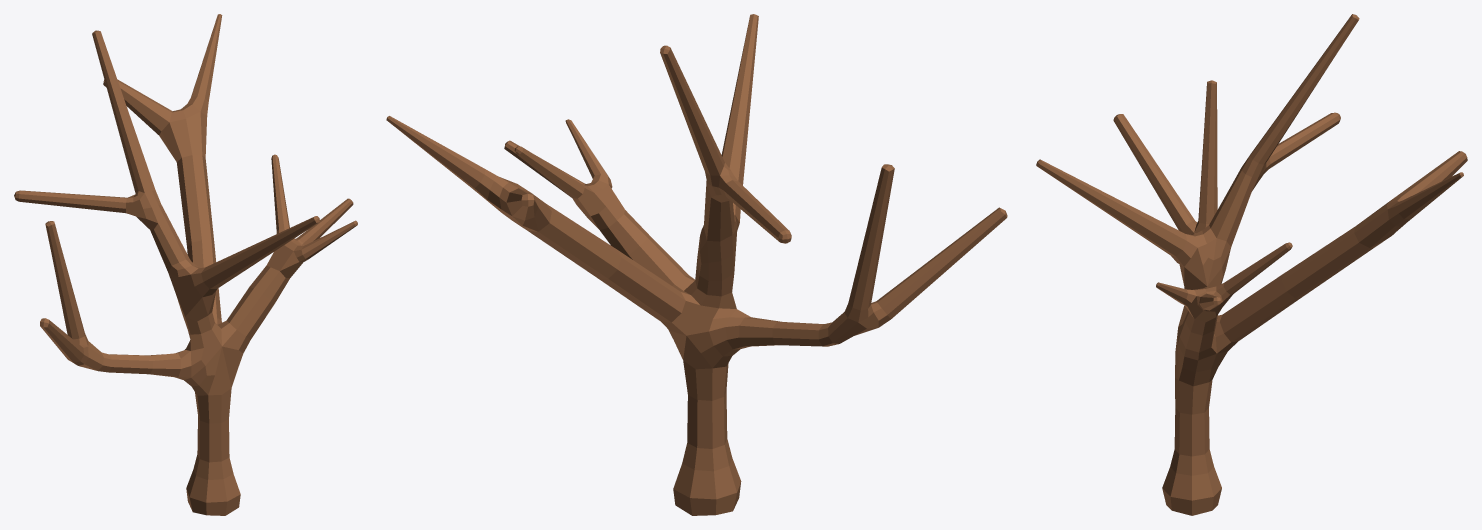
File: tree-summer-trunk-026.glb
3 views of the same model, side by side, from view 1: azimuth 30°, elevation 25°; view 2: azimuth 150°, elevation 25°; view 3: azimuth 270°, elevation 25° (orthographic). The views are drawn at different scales.
Visible parts, largest first — view 1: Plane.023_272; view 2: Plane.023_272; view 3: Plane.023_272.
Boxes of the visible parts, x1,y1,x2,y2 form: Plane.023_272: (14,14,357,515); Plane.023_272: (386,14,1007,515); Plane.023_272: (1036,14,1467,515).
Size of the model in its own units: 1.29 by 1.52 by 1.25.
